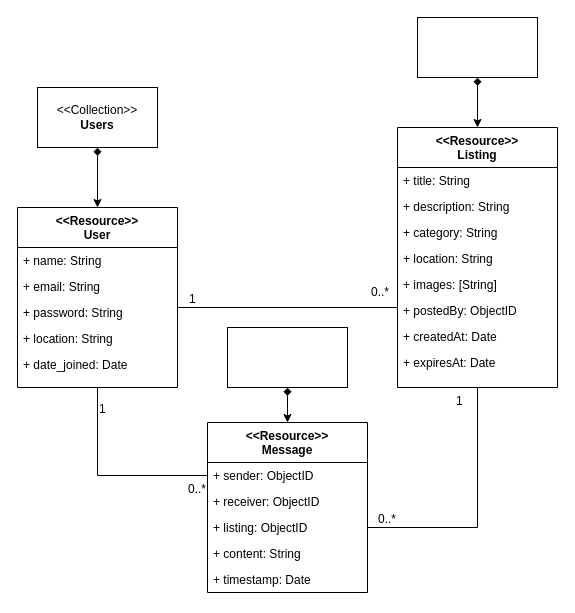
The diagram is 575 pixels wide and 613 high, and some of its shapes have lost their labels. The shapes that lost their labels are listed below. From the top down, each one's centre as x and y in pixels, then its label:
(x=477, y=47): <<Collection>> Listings
(x=287, y=357): <<Collection>> Messages
